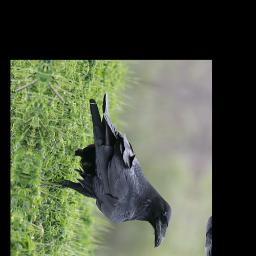Crow: (45, 84, 191, 250)
